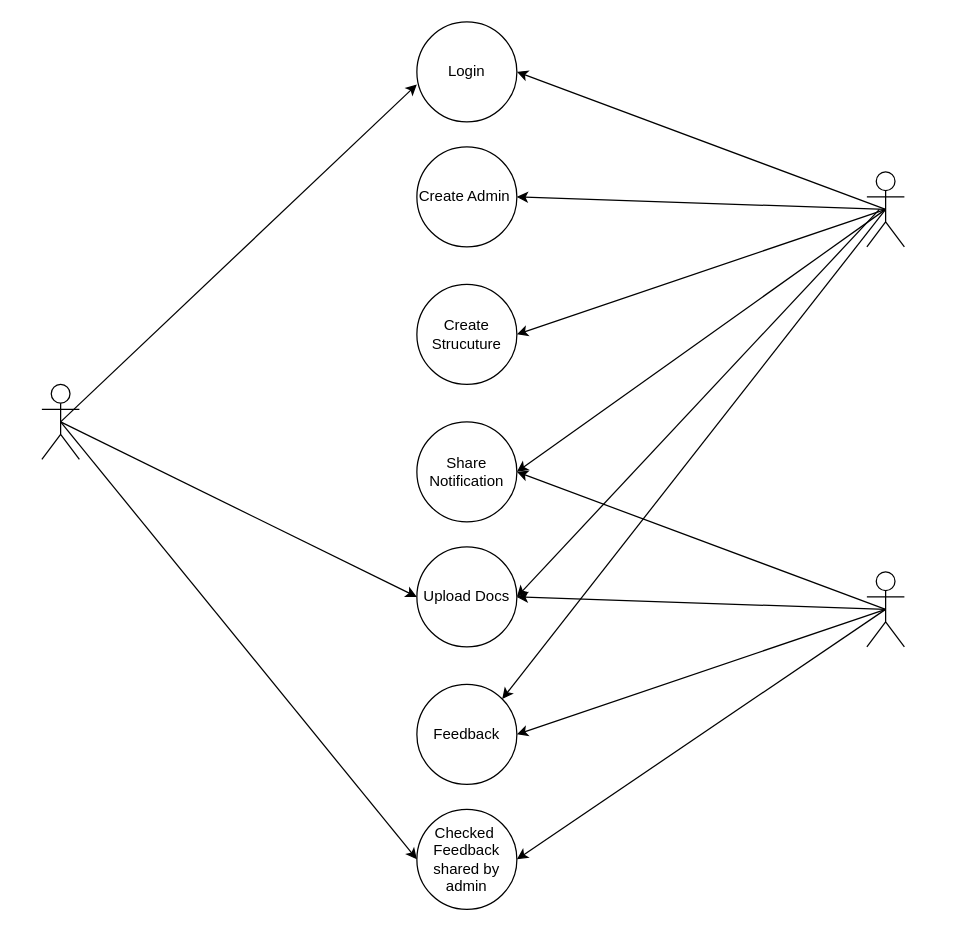
Some shapes in this 971 by 931 pixel diagram are drawn without their labels. The shapes that lost their labels are listed below. From the top down, each one's centre as x and y in pixels, then its label:
the point at 885,209: University Authority
the point at 60,421: Department
the point at 885,609: Dean
